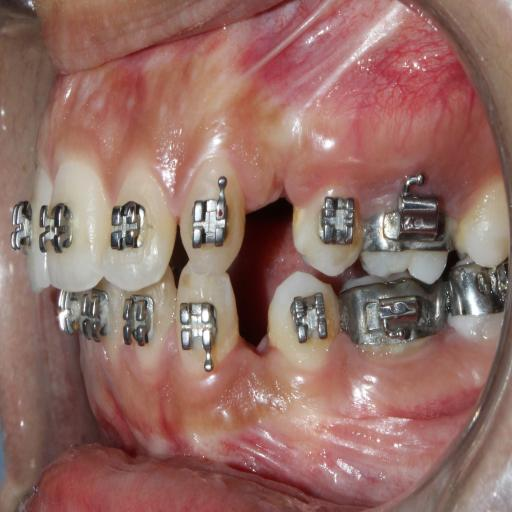correct_brace: (285, 187, 366, 280), (190, 190, 229, 252), (38, 194, 77, 254), (110, 194, 146, 252)
incorrect_brace: (108, 150, 174, 294), (319, 192, 357, 253)
